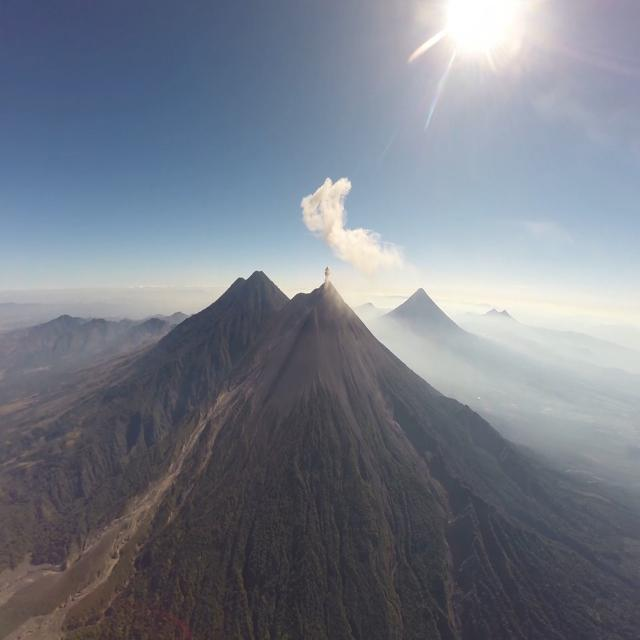Plume: (300, 175, 402, 275), (322, 264, 330, 284)
Summit: (312, 278, 346, 304)
